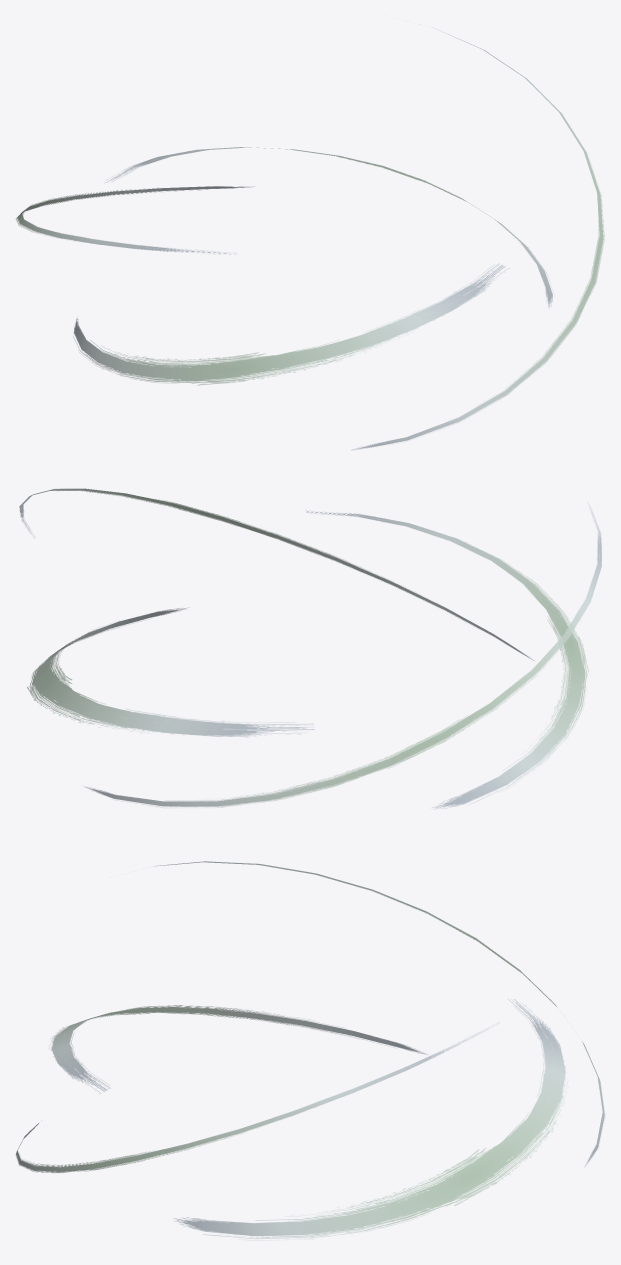
Rendered from Attack.glb.
3 views of the same model, one above another, from view 1: azimuth 30°, elevation 25°; view 2: azimuth 150°, elevation 25°; view 3: azimuth 270°, elevation 25° (orthographic). The views are drawn at different scales.
Visible parts, largest first — view 1: Plane; view 2: Plane; view 3: Plane.
Boxes of the visible parts, x1,y1,x2,y2 form: Plane: (16,28,604,450); Plane: (19,488,601,809); Plane: (16,861,605,1240).
Size of the model in its own units: 0.3095 by 0.1322 by 0.304.
Materials: 1 (1 with a texture image).
